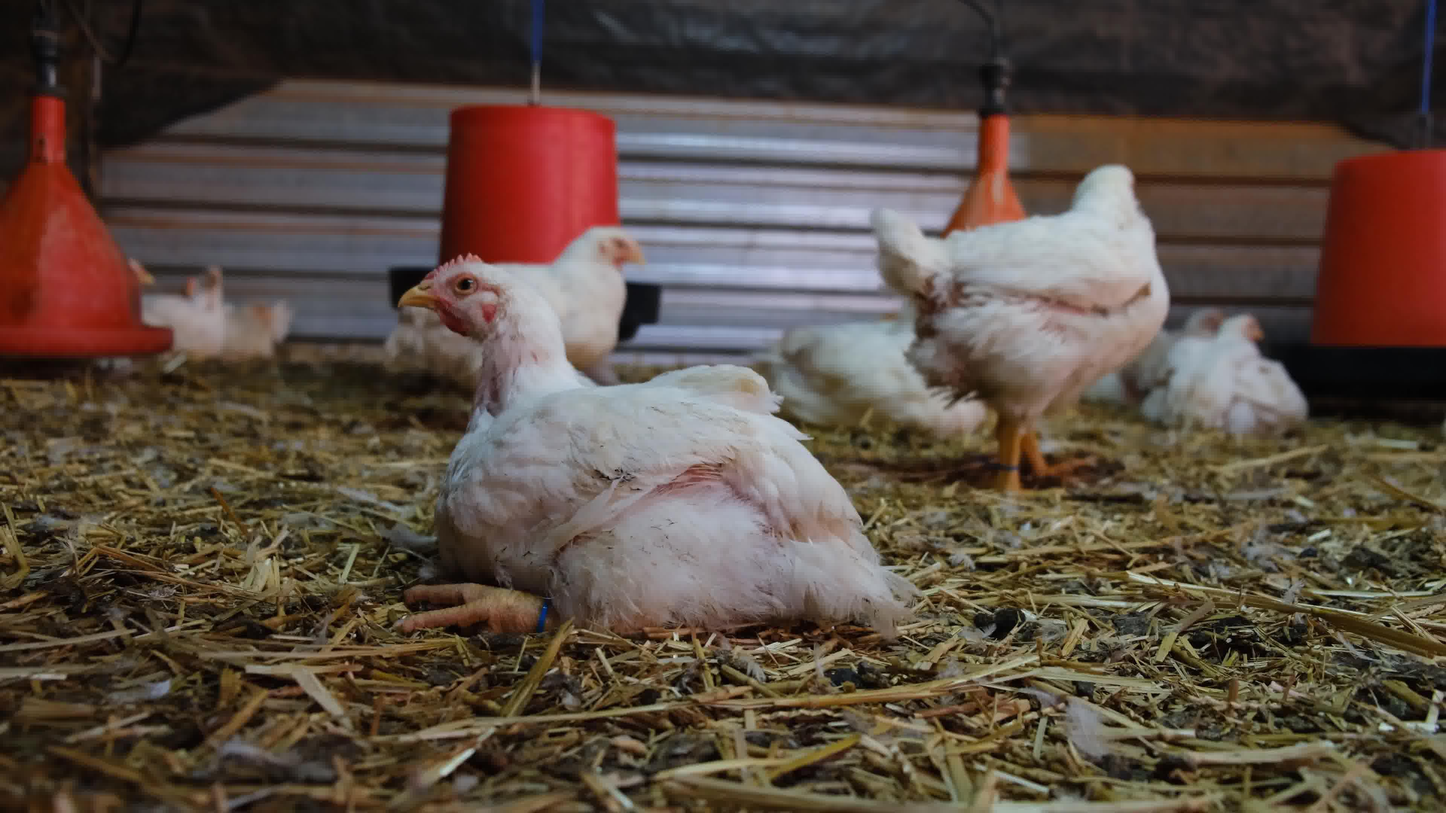AbNormal: (392, 245, 919, 642), (757, 312, 992, 442), (1186, 307, 1316, 448), (1150, 290, 1248, 418), (224, 290, 324, 365)
Normal: (851, 154, 1181, 497), (362, 196, 655, 380), (121, 247, 256, 359)
